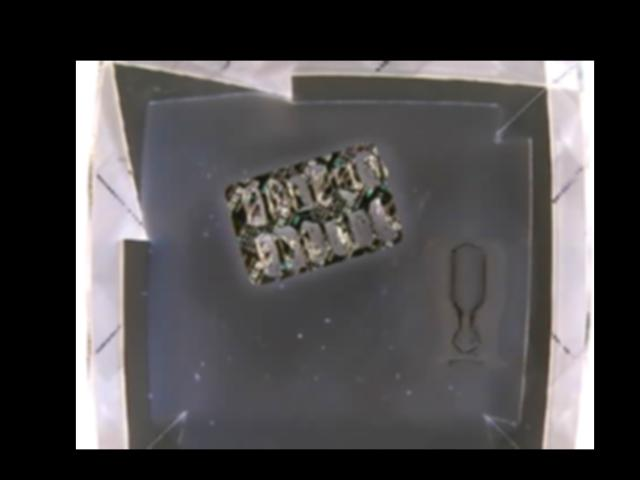Bottle: (437, 240, 497, 370)
Medicine: (222, 142, 403, 284)
